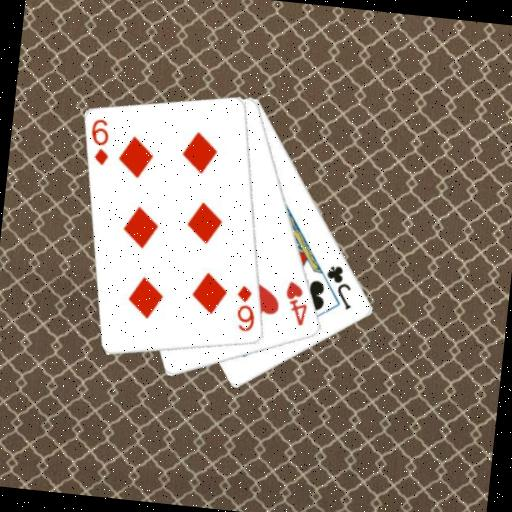4H: (280, 278, 312, 329)
6D: (230, 282, 260, 335), (85, 115, 114, 168)
JC: (321, 261, 358, 312)
